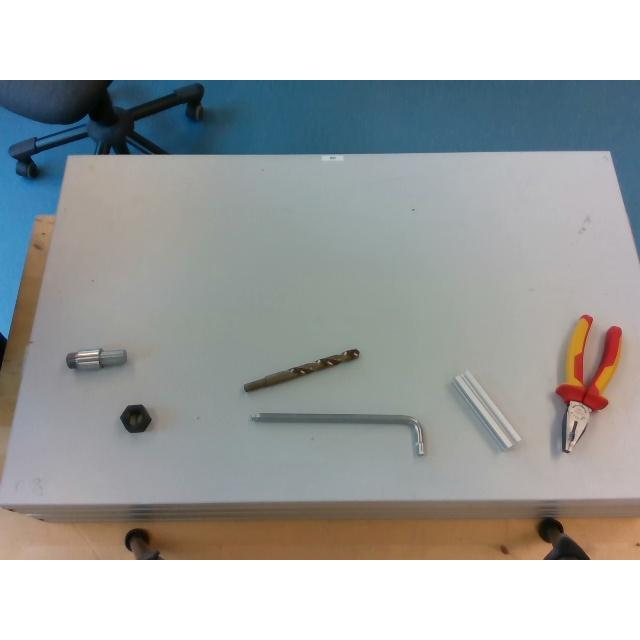AllenKey: (251, 412, 425, 456)
Axis2: (66, 347, 126, 369)
Drill: (243, 348, 359, 392)
F20_20_G: (452, 370, 520, 450)
M20: (120, 404, 150, 432)
